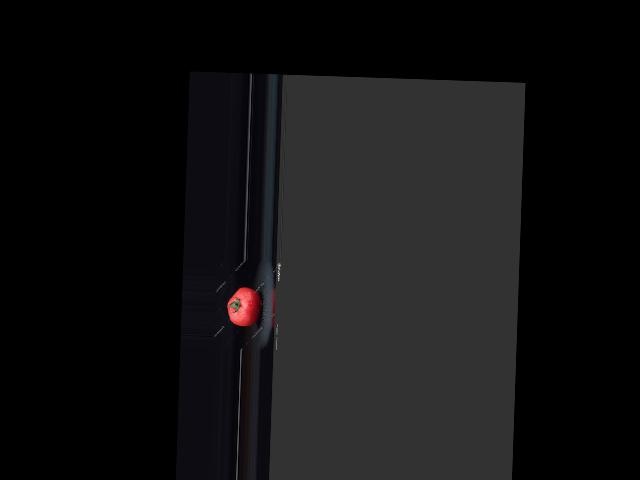tomato: (226, 286, 262, 327)
